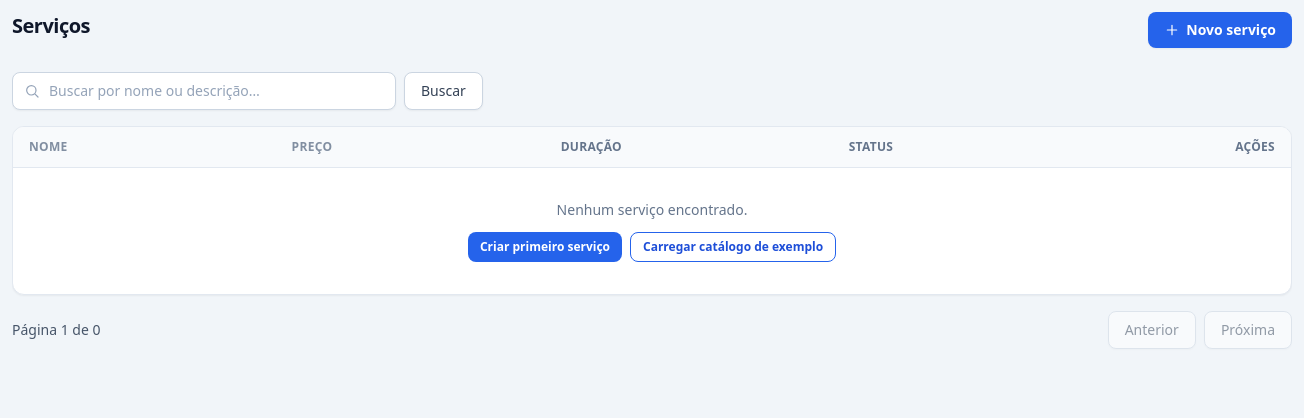
ServicesPage empty state (F3/F4) › loads the example catalog and reports the result
The image size is (1304, 418).
Click the button "Carregar catálogo de exemplo".
click(733, 247)  # box [630, 232, 836, 262]
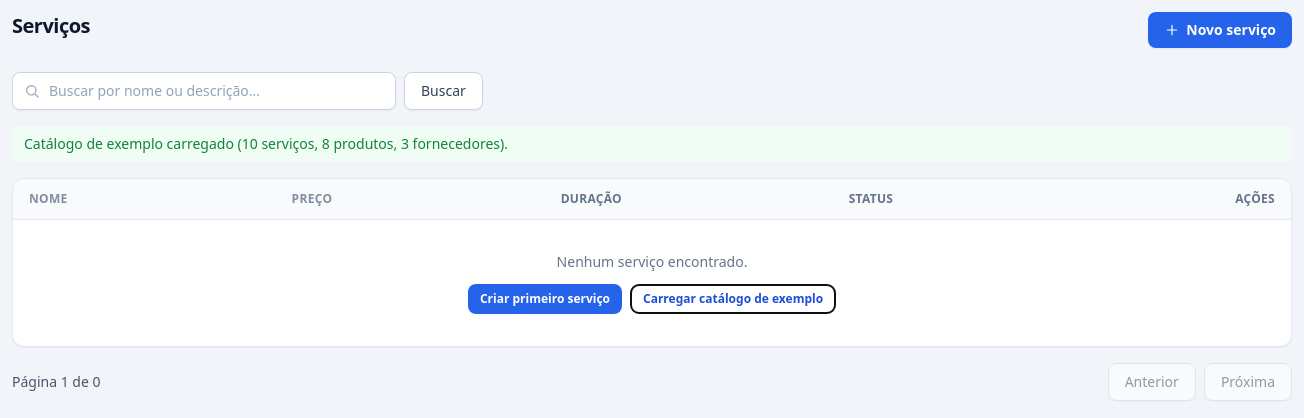
Check: the text "Catálogo de exemplo carregado (10 serviços, 8 produtos, 3 fornecedores)." is shown, box [12, 126, 1292, 162]
